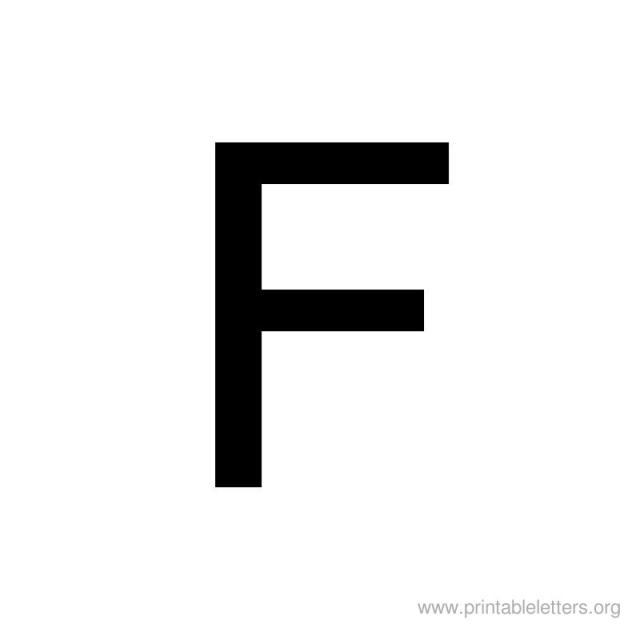F: (169, 66, 481, 589)
